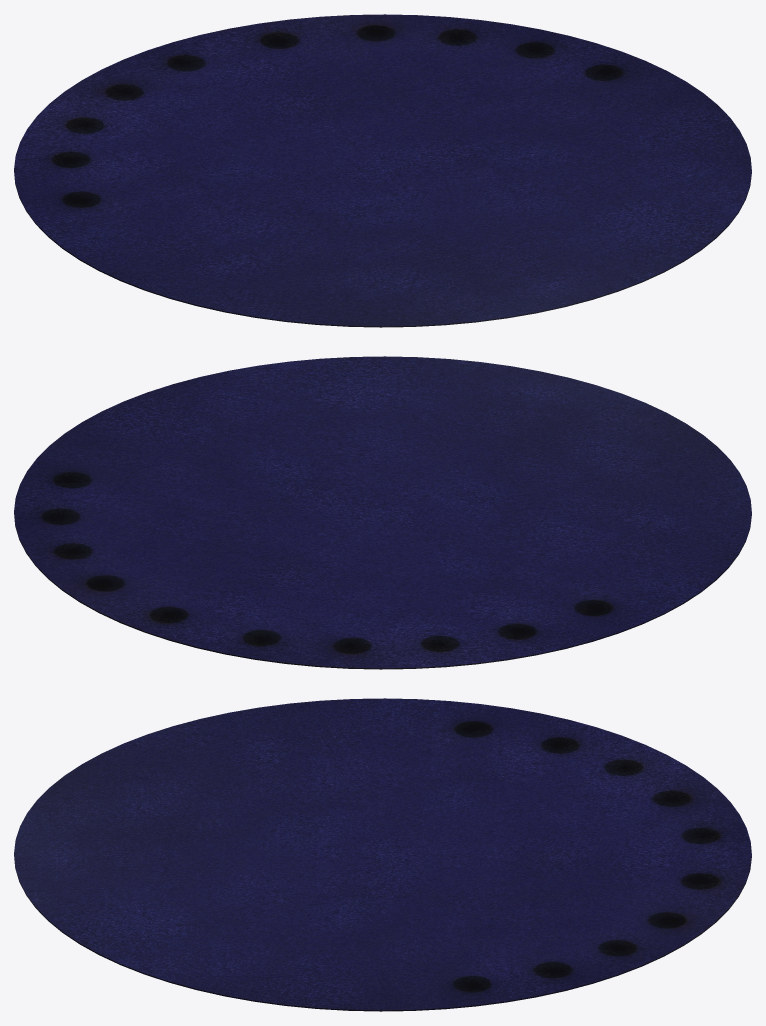
The model's file is ey_verse_rug.glb.
The picture shows the model from 3 angles, top to bottom: view 1: azimuth 30°, elevation 25°; view 2: azimuth 150°, elevation 25°; view 3: azimuth 270°, elevation 25°; orthographic projection.
Parts seen in each view (by area): view 1: ey_verse_rug; view 2: ey_verse_rug; view 3: ey_verse_rug.
Part boxes in pixels (bbox=[...]): ey_verse_rug: bbox=[14, 14, 751, 327]; ey_verse_rug: bbox=[14, 356, 751, 669]; ey_verse_rug: bbox=[14, 698, 751, 1011].
Bounding box in the file's own units: 7.28 × 0.0126 × 7.28.
1 material, 1 textured.
